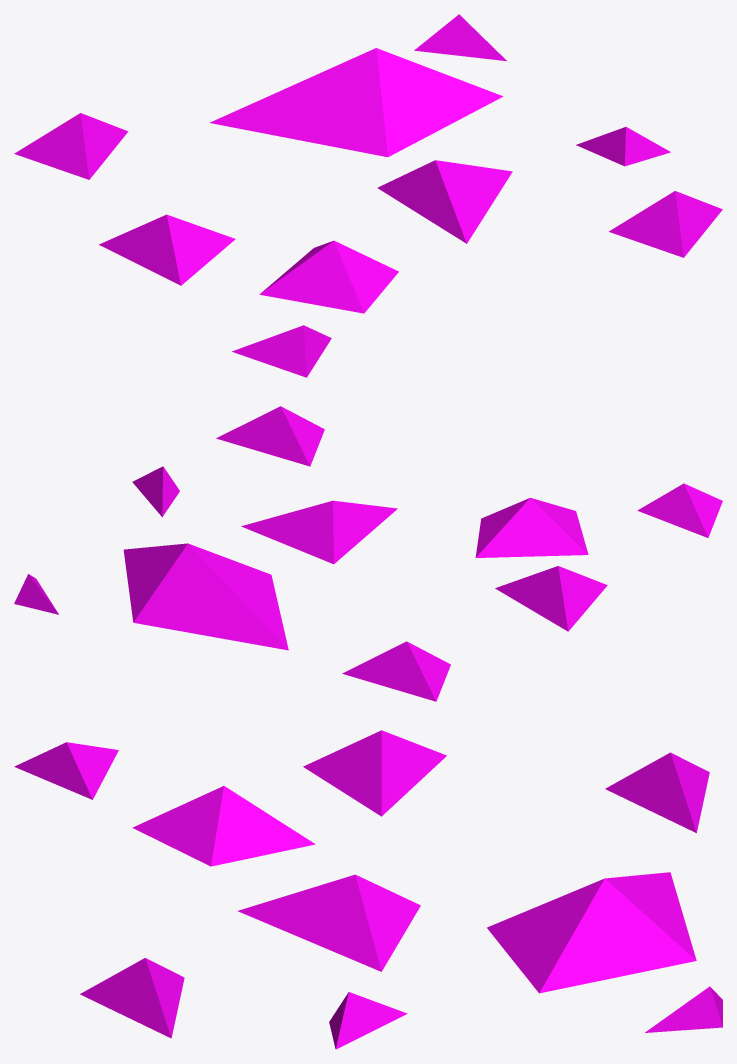
The model's file is dugupsoil1.obj.
3 views of the same model, one above another, from view 1: azimuth 30°, elevation 25°; view 2: azimuth 150°, elevation 25°; view 3: azimuth 270°, elevation 25° (orthographic). The views are drawn at different scales.
Visible parts, largest first — view 1: dugupsoil1_back; view 2: dugupsoil1_back; view 3: dugupsoil1_back.
Boxes of the visible parts, x1,y1,x2,y2 form: dugupsoil1_back: (14,14,722,377); dugupsoil1_back: (14,406,722,701); dugupsoil1_back: (14,730,722,1049).
Bounding box in the file's own units: 1.08 × 0.12 × 1.08.
